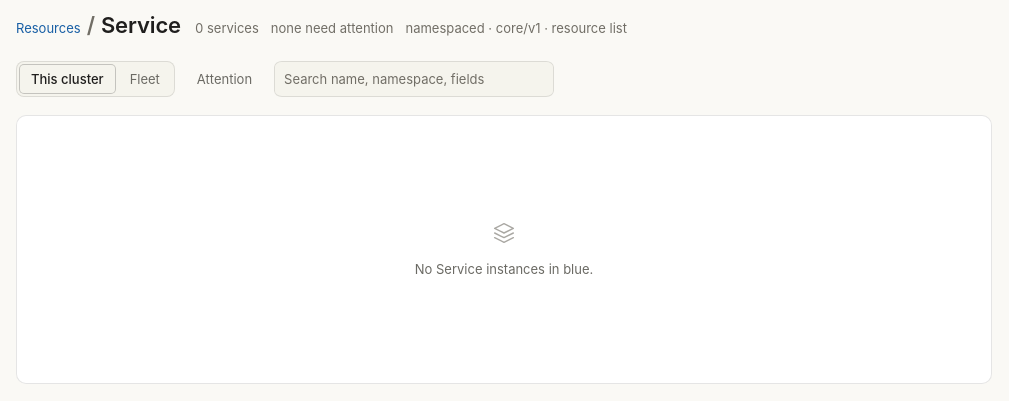
Test: InstanceList › filters fleet resources locally by cluster tab
Click the button "Fleet" at (145, 79), box [118,64,172,94]
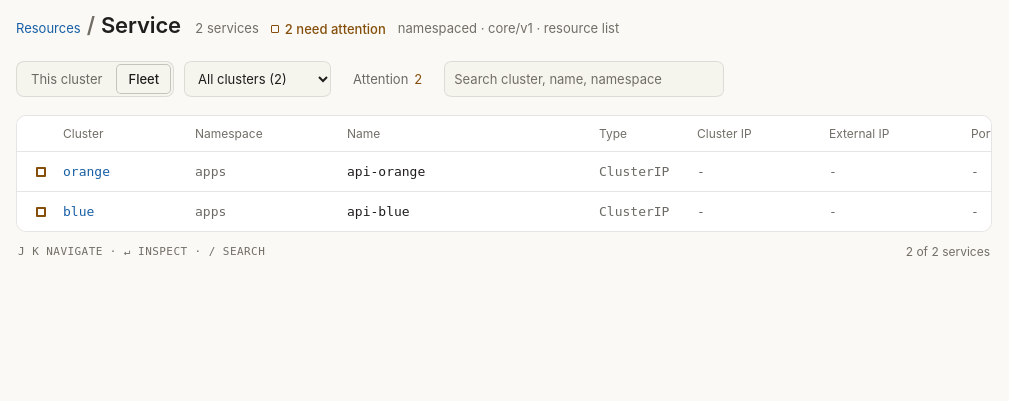
Check: the text "api-orange" is shown, box [347,162,425,180]
Select "orange (1)" in the dropdown named "Fleet cluster" at (258, 79), box [184,59,331,99]
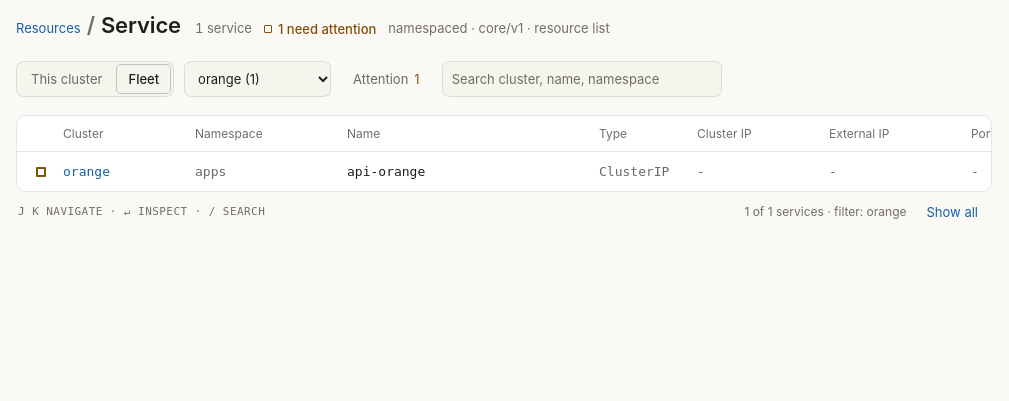
Check: the text "api-orange" is shown, box [347,162,425,180]
Check: the button "api-blue" is gone
